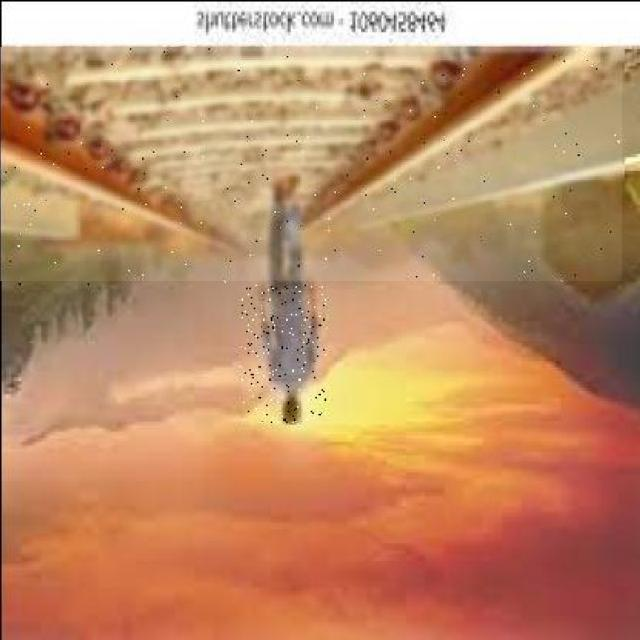rail: (1, 48, 623, 282)
